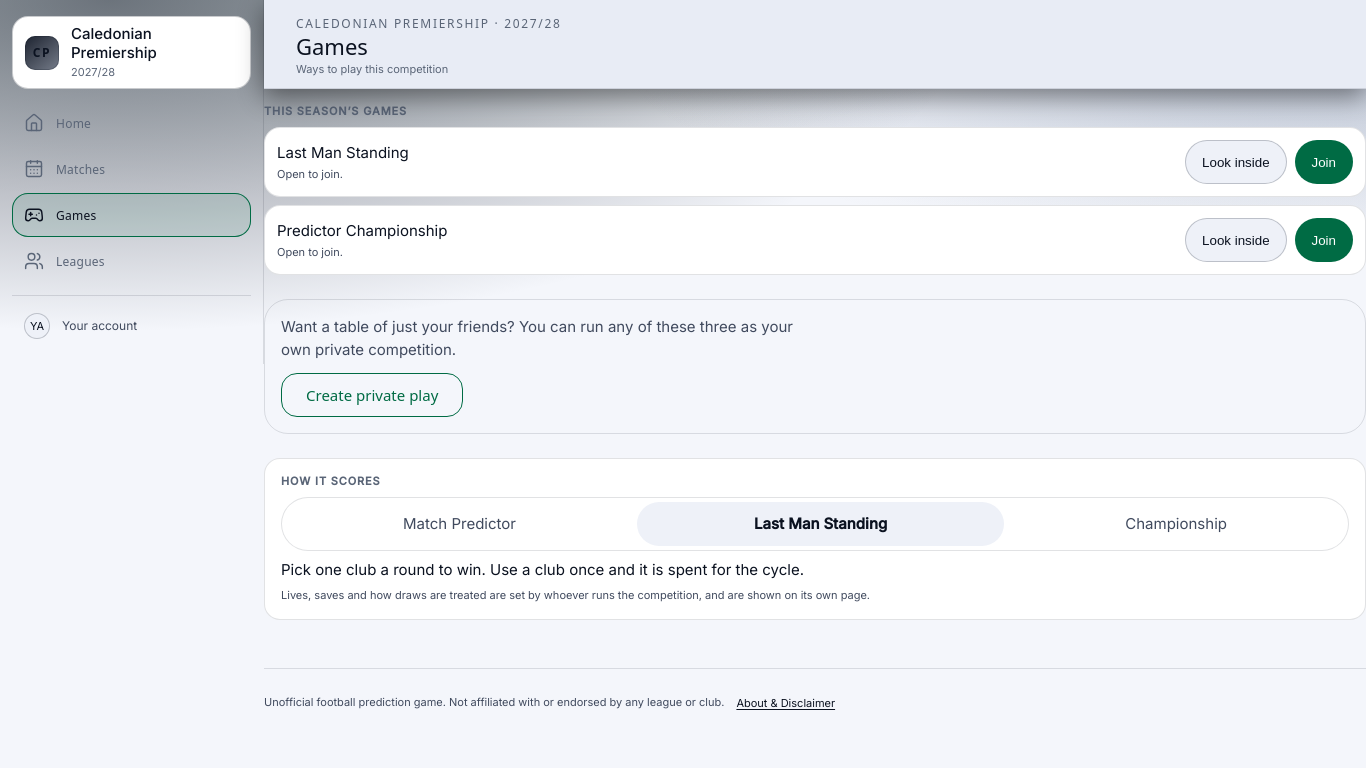
a join that does not land › leaves the player unjoined and says why
This screenshot has width=1366, height=768.
Expected: the list item "Last Man Standing Open to join. Look inside Join" is shown, [264, 127, 1365, 197]
Click the 1st button "Join".
click(1324, 162)  # box [1294, 140, 1353, 184]
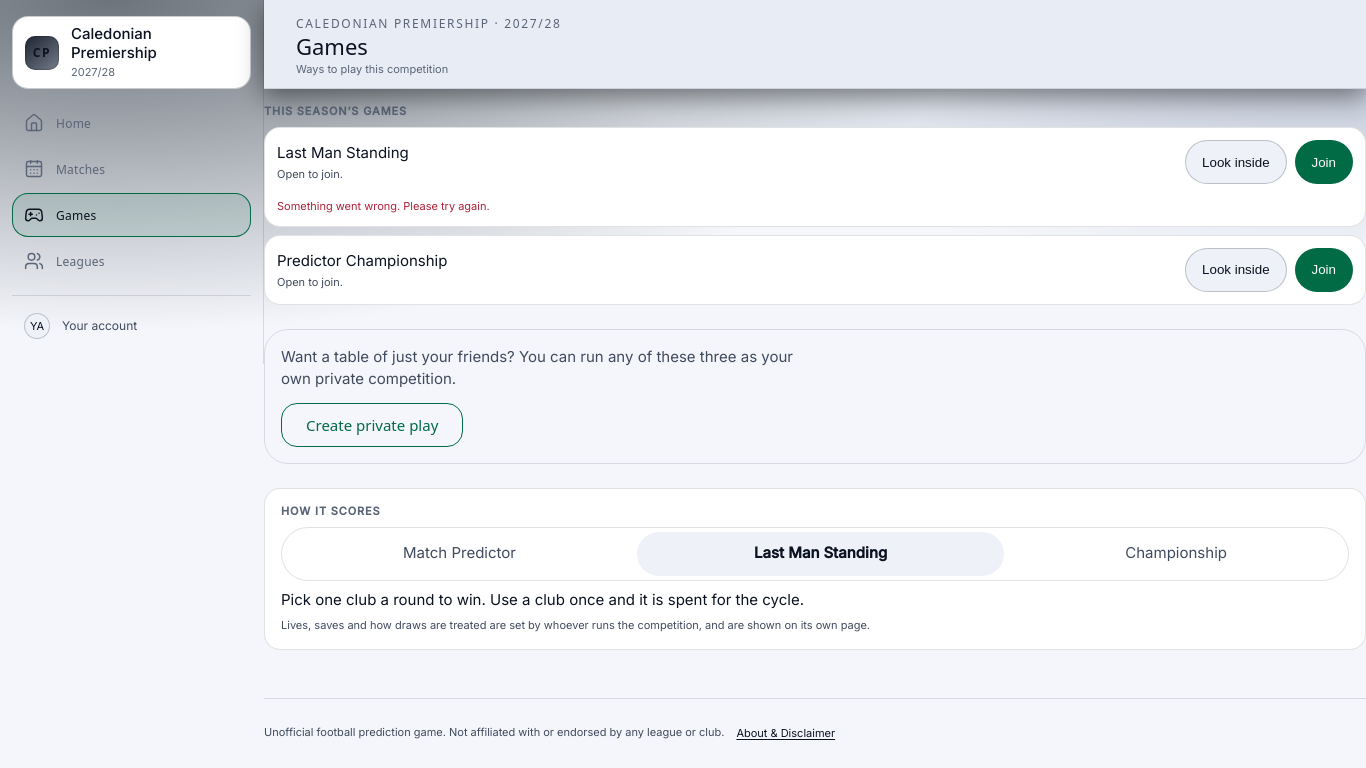
Expected: the message "Something went wrong. Please try again." is shown, [277, 199, 490, 213]
